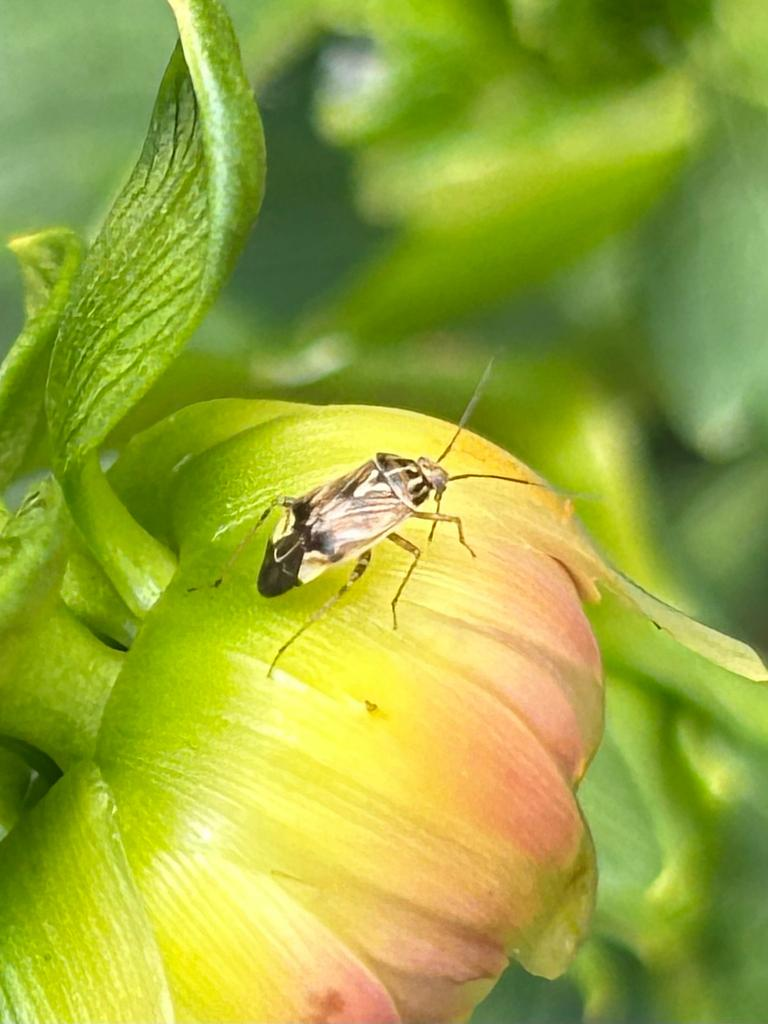plant_bugs: (185, 313, 565, 722)
